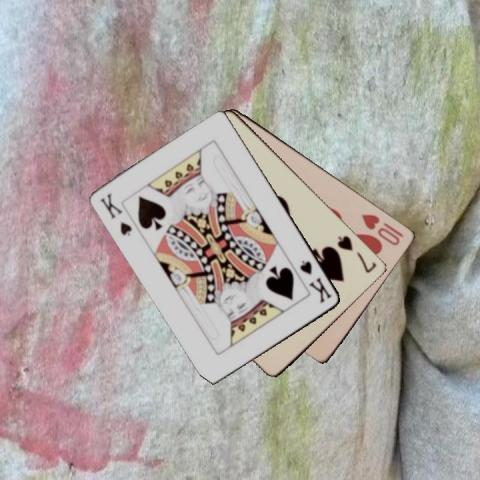10h: (358, 211, 405, 247)
7s: (334, 232, 378, 275)
Ks: (97, 190, 134, 238), (297, 257, 333, 305)
